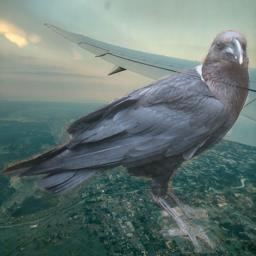Crow: (2, 30, 250, 253)
